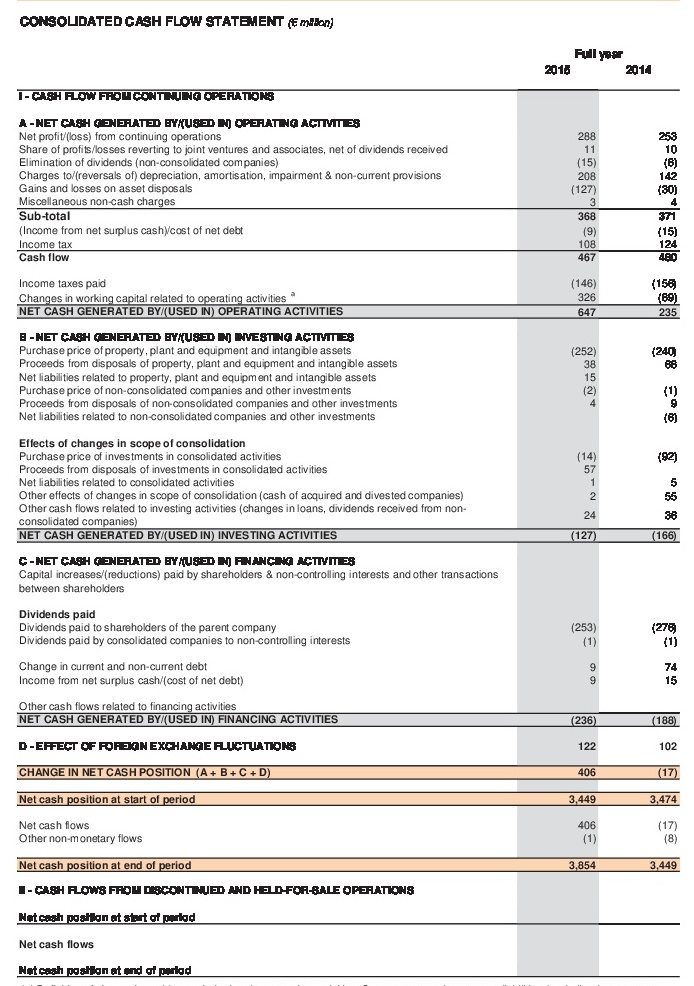table: (0, 0, 694, 986)
